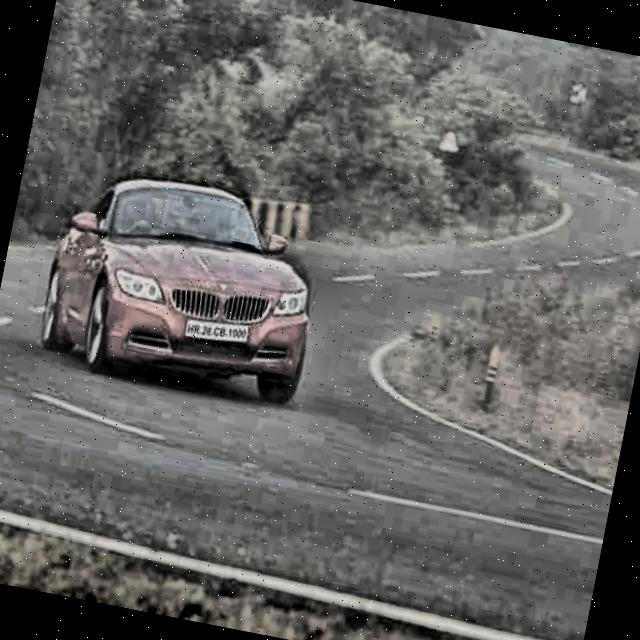license_plate: (184, 312, 250, 349)
